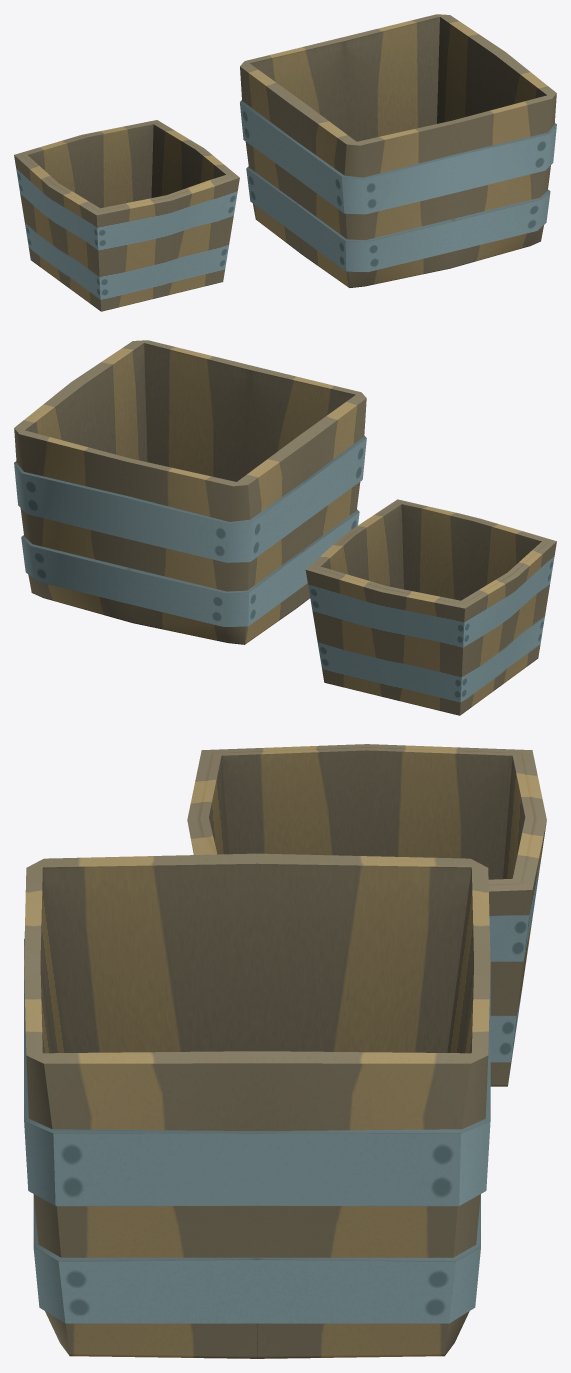
File: saaapcont.dae
3 views of the same model, one above another, from view 1: azimuth 30°, elevation 25°; view 2: azimuth 150°, elevation 25°; view 3: azimuth 270°, elevation 25° (orthographic). The views are drawn at different scales.
Parts seen in each view (by area): view 1: AppleContainerLarge, AppleContainerSmall; view 2: AppleContainerLarge, AppleContainerSmall; view 3: AppleContainerLarge, AppleContainerSmall.
Boxes of the visible parts, x1,y1,x2,y2 form: AppleContainerLarge: (240, 14, 556, 287); AppleContainerSmall: (14, 120, 239, 311); AppleContainerLarge: (14, 340, 366, 644); AppleContainerSmall: (305, 499, 556, 715); AppleContainerLarge: (24, 853, 490, 1358); AppleContainerSmall: (187, 744, 546, 1086).
Bounding box in the file's own units: 8.57 × 2.95 × 4.52.
